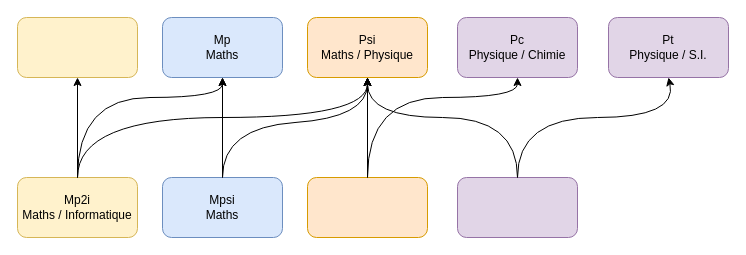
Image size: 746x255. Some labels were removed from this diagram. The shapes that lost their labels are listed below. From the top down, each one's centre as x and y in pixels, then its label:
At point (77, 47): "Mpi Maths / Informatique".
At point (367, 207): "Pcsi S.I.".
At point (517, 207): "Ptsi Physique".
